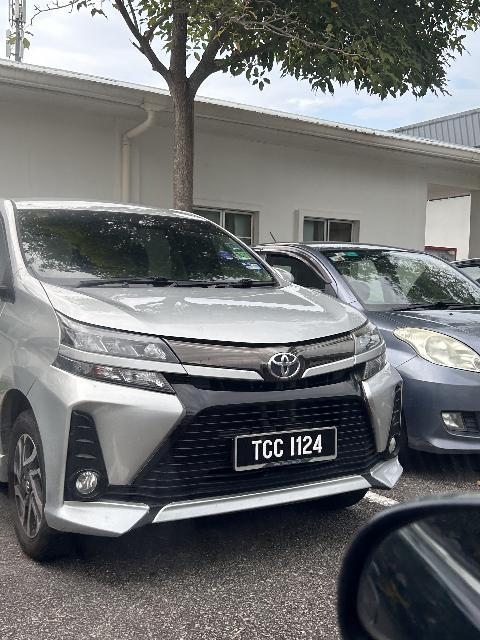License_Plate: (233, 425, 339, 477)
TCC1124: (233, 425, 339, 477)
car: (2, 197, 409, 558), (244, 235, 480, 482)
